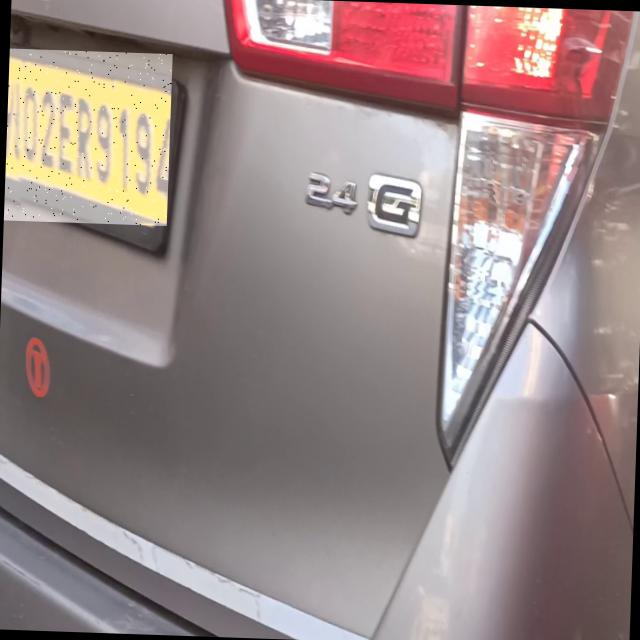Plate: (5, 49, 174, 227)
